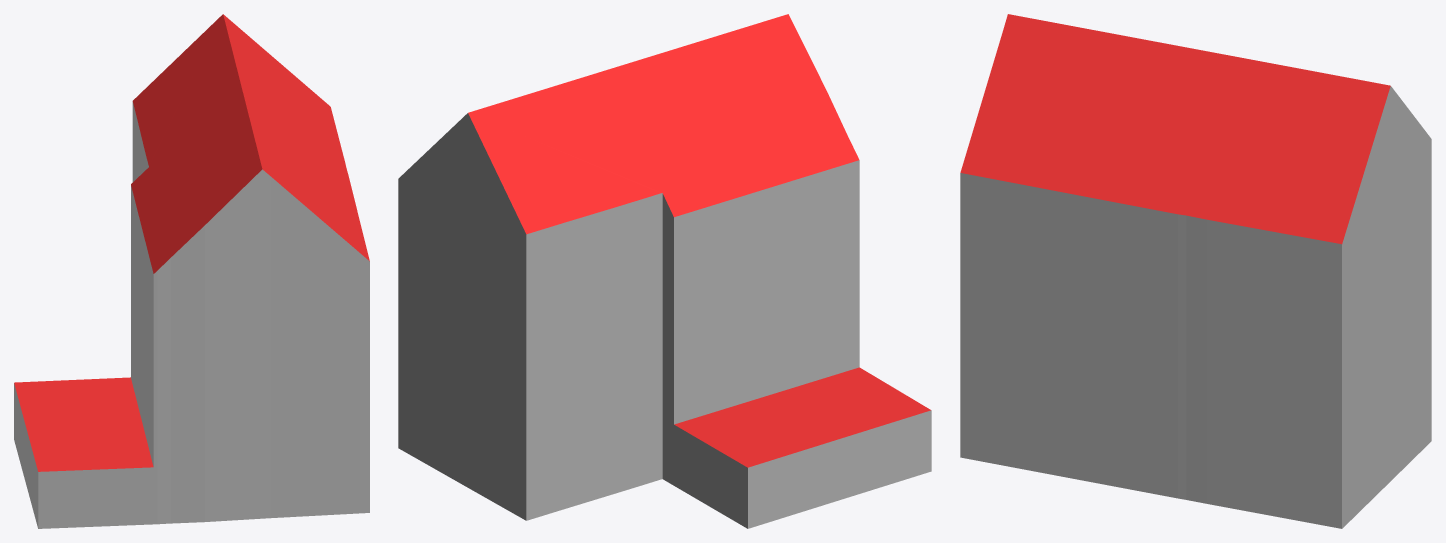
The model's file is DEBY_LOD2_4907180.dae.
3 views of the same model, side by side, from view 1: azimuth 30°, elevation 25°; view 2: azimuth 150°, elevation 25°; view 3: azimuth 270°, elevation 25° (orthographic). The views are drawn at different scales.
Size of the model in its own units: 27.93 by 25.5 by 23.63.
